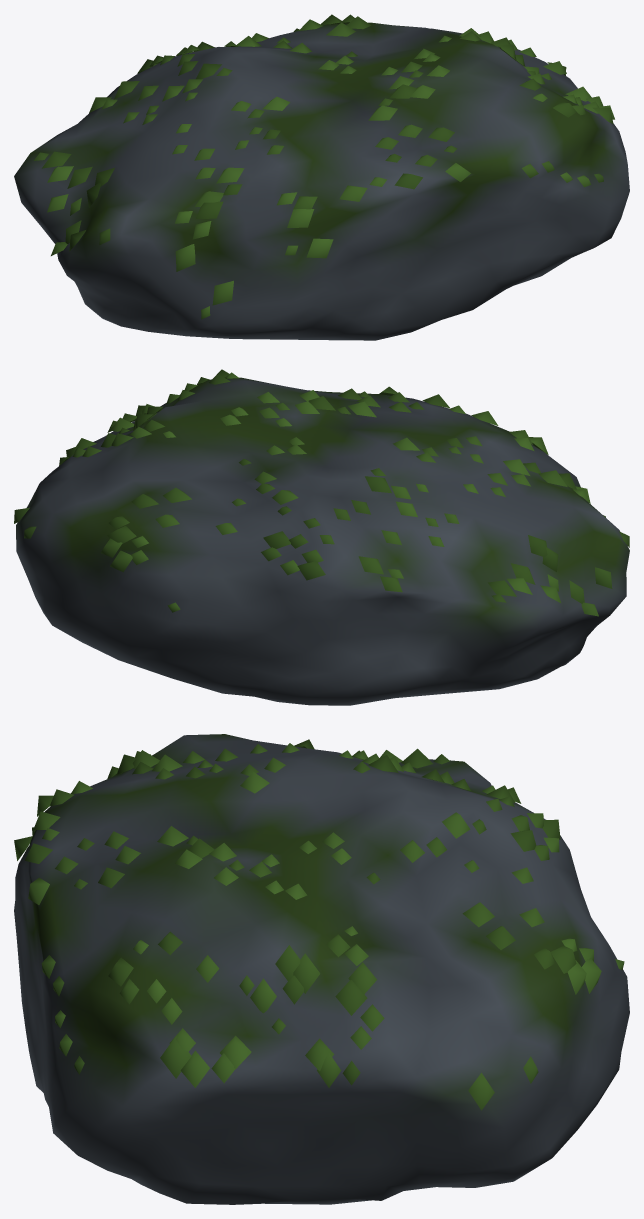
The model's file is flat_stone.001.glb.
The picture shows the model from 3 angles, top to bottom: view 1: azimuth 30°, elevation 25°; view 2: azimuth 150°, elevation 25°; view 3: azimuth 270°, elevation 25°; orthographic projection. The views are drawn at different scales.
Parts seen in each view (by area): view 1: Flat_Stone_Stone.001, Flat_Stone_Moss.001; view 2: Flat_Stone_Stone.001, Flat_Stone_Moss.001; view 3: Flat_Stone_Stone.001, Flat_Stone_Moss.001.
Boxes of the visible parts, x1=… form: Flat_Stone_Stone.001: x1=14, y1=22, x2=629, y2=340; Flat_Stone_Moss.001: x1=33, y1=14, x2=614, y2=319; Flat_Stone_Stone.001: x1=16, y1=377, x2=629, y2=705; Flat_Stone_Moss.001: x1=14, y1=369, x2=629, y2=616; Flat_Stone_Stone.001: x1=14, y1=734, x2=629, y2=1204; Flat_Stone_Moss.001: x1=14, y1=739, x2=624, y2=1110.
Bounding box in the file's own units: 0.4812 × 0.1616 × 0.3619.
